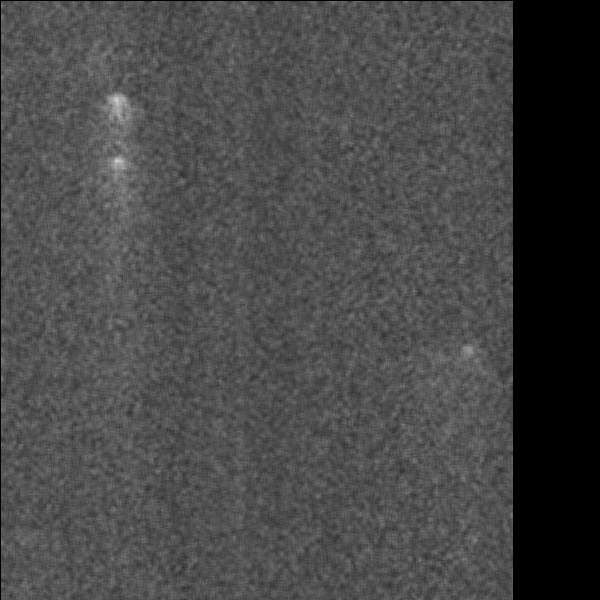spark: (104, 89, 130, 145), (109, 150, 137, 178), (460, 338, 476, 368)
